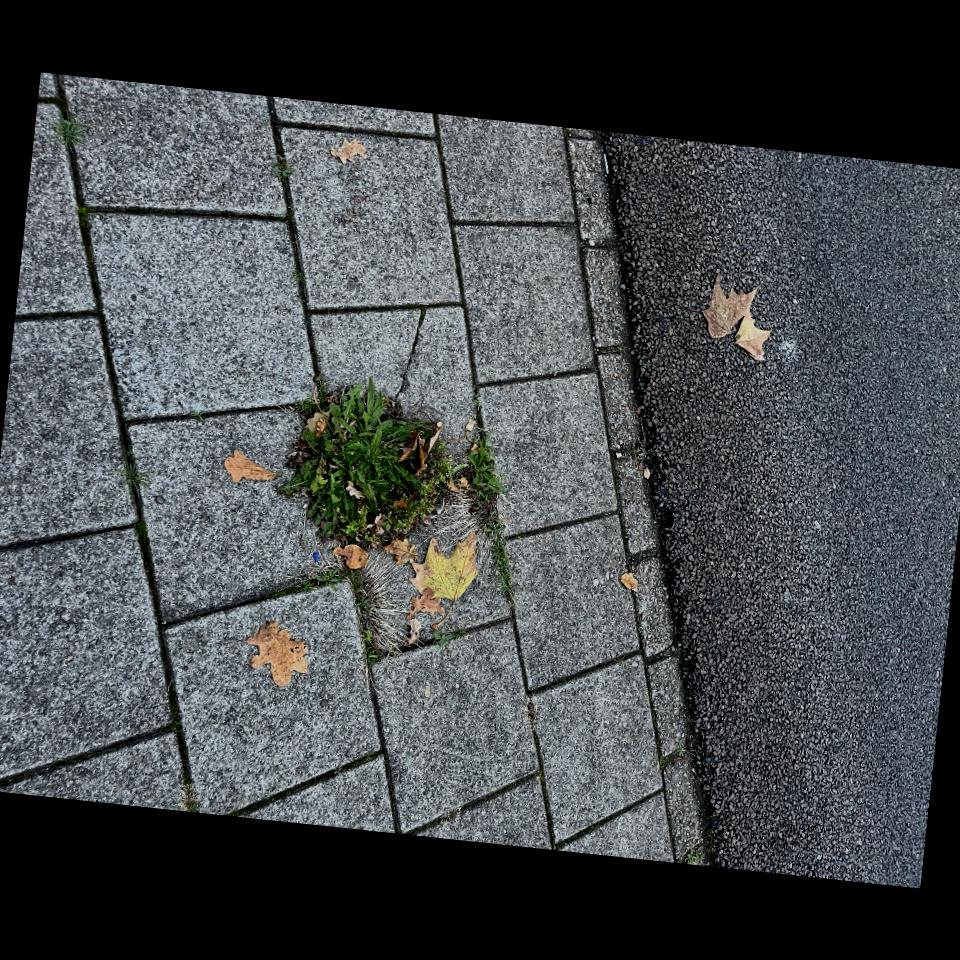weed: (282, 379, 448, 542), (278, 566, 386, 646), (468, 434, 513, 603), (433, 629, 463, 645)
